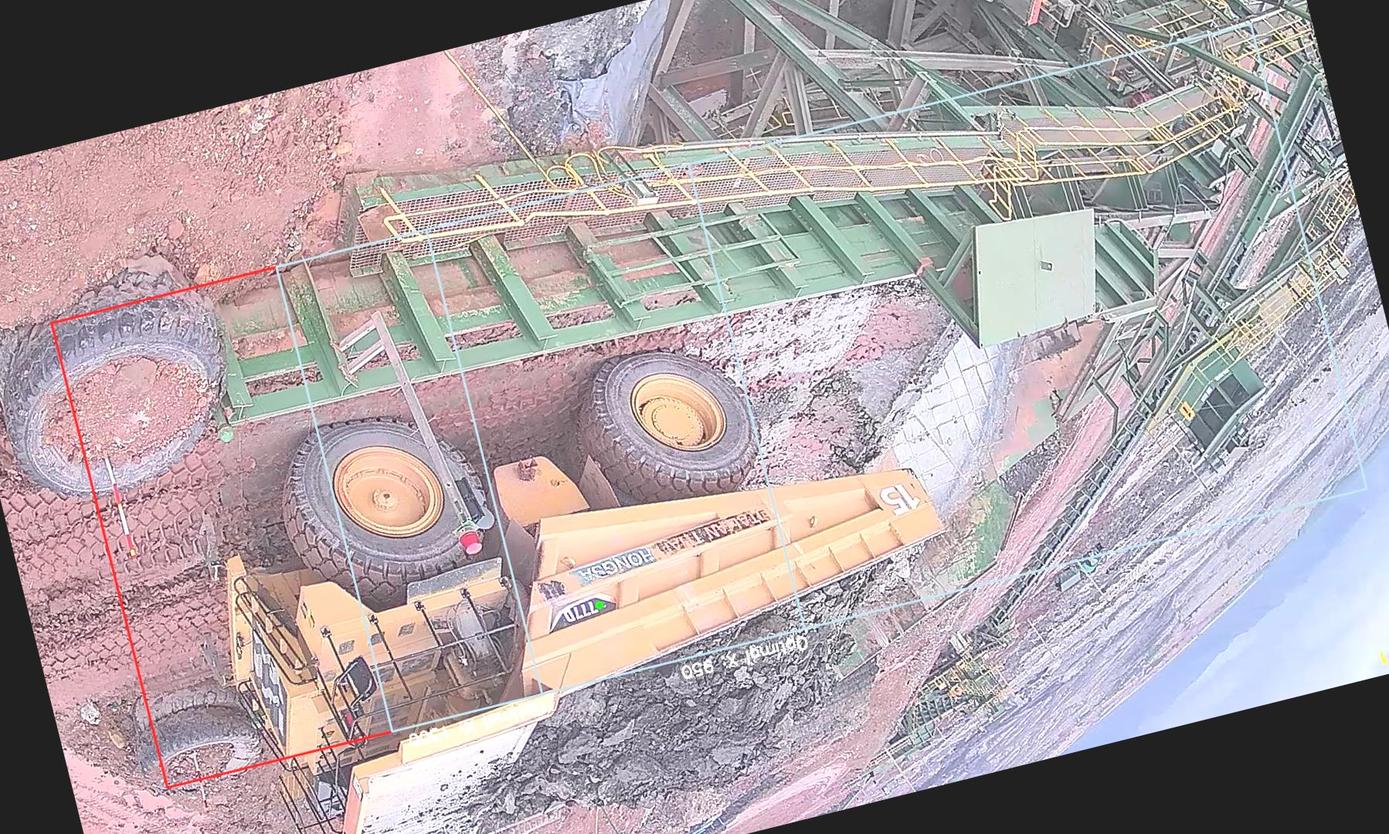company: (557, 496, 785, 596)
full_load: (523, 574, 905, 831)
mining_truck: (169, 280, 1007, 834)
tail_number: (871, 473, 926, 522)
truck_size: (549, 590, 625, 637)
